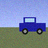vehicle: (19, 17, 45, 34)
